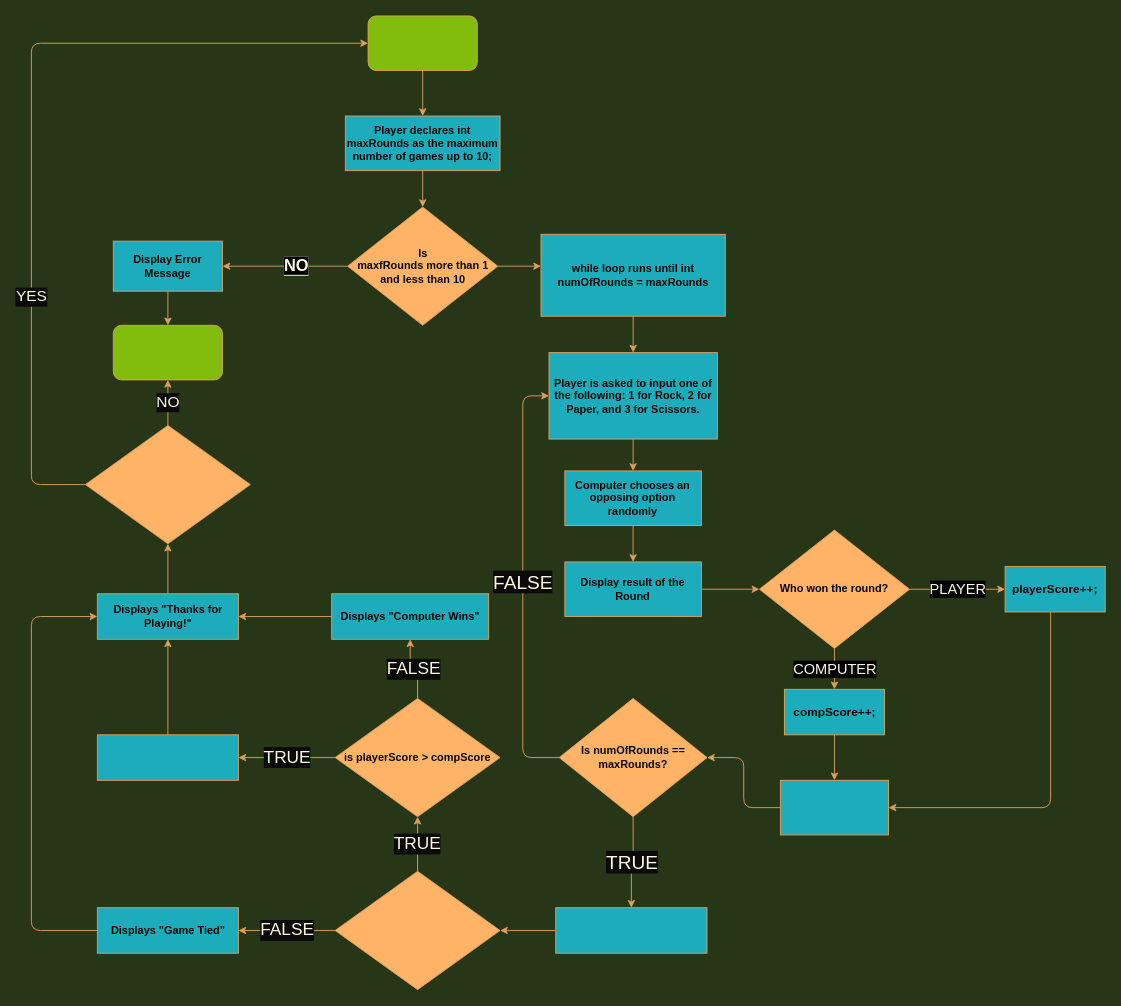
The diagram is 1121 pixels wide and 1006 high, and some of its shapes have lost their labels. The centre of each missing label's shape, as x and y in pixels:
Asks the player "Play Again (y/n)": pixel 167 484
Displays "Player Wins!": pixel 167 757
Game prints out the number of ties, user wins and computer wins: pixel 631 930
is playerScore == compScore: pixel 417 930
numOfRounds++;: pixel 834 807
QUIT: pixel 167 352
START: pixel 422 43
